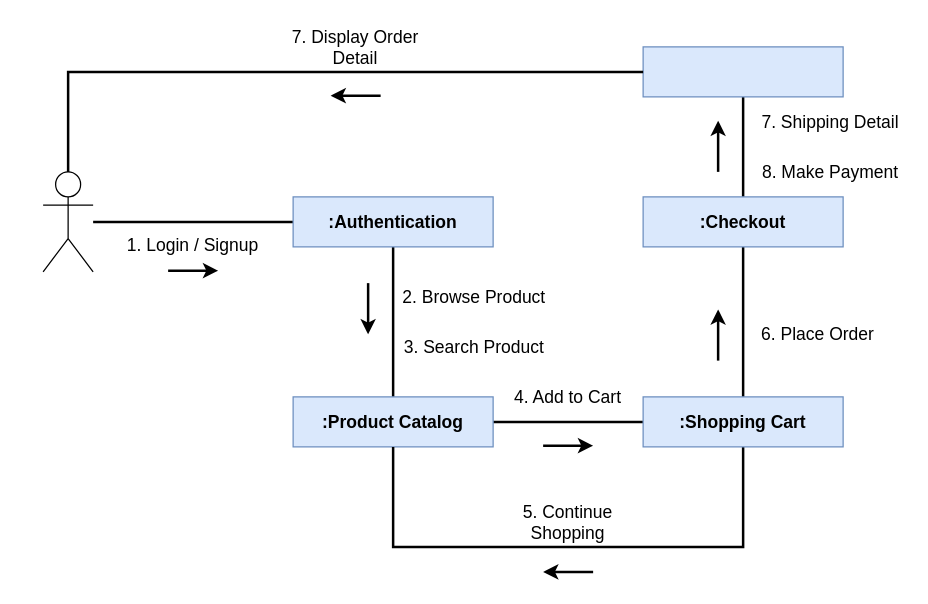
Some shapes in this 928 by 604 pixel diagram are drawn without their labels. Here are the shapes that lost their labels. From the top down, the box of each, then its label:
(642, 46, 843, 97): :Order History
(42, 171, 93, 272): Customer
